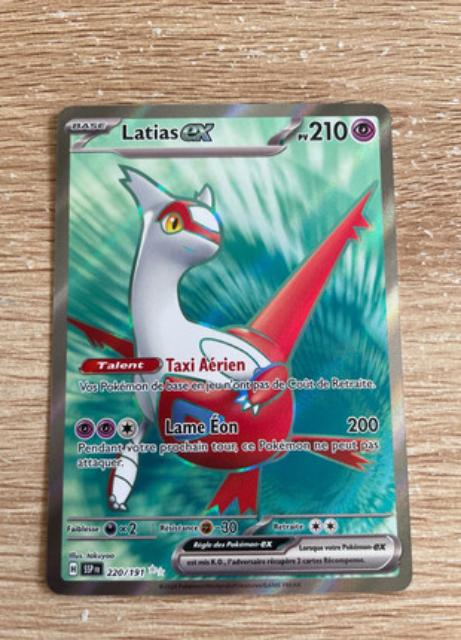Card: (42, 102, 418, 600)
Name: (118, 119, 221, 145)
